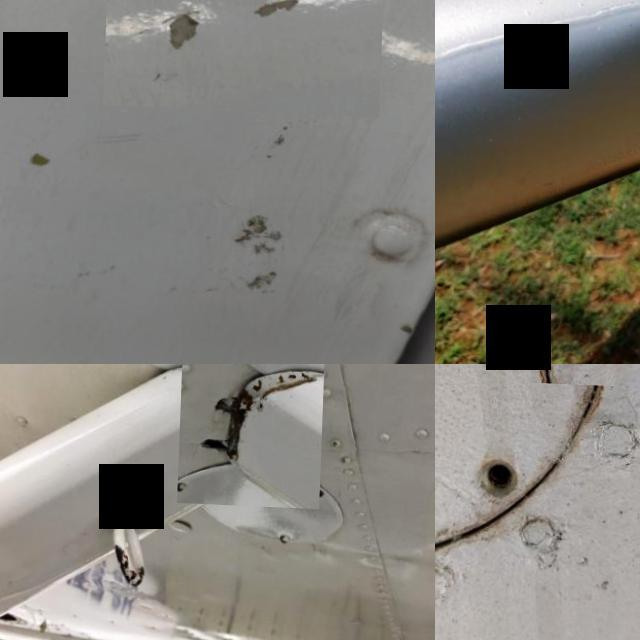Crack: (104, 0, 387, 113), (180, 364, 327, 505), (110, 528, 160, 612)
Missing_Fastener: (466, 436, 536, 514), (533, 364, 619, 382)
